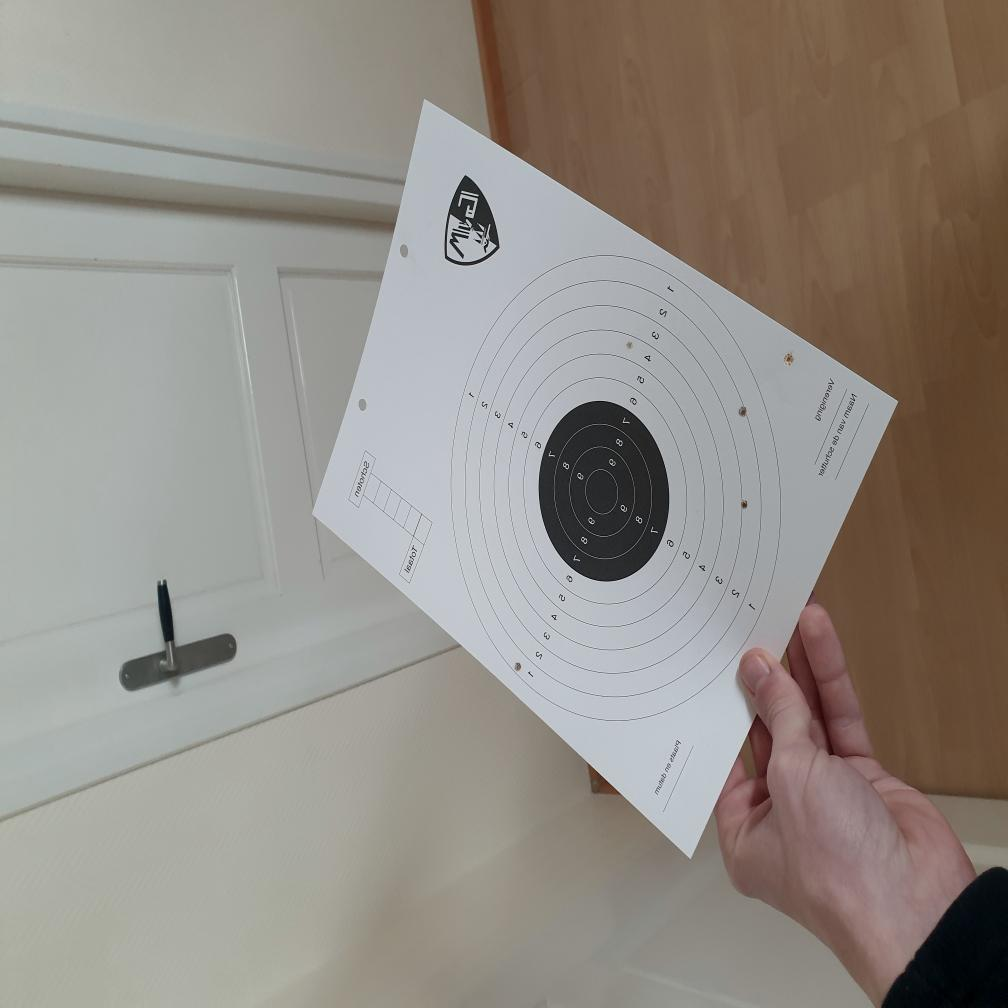0: (781, 350, 796, 368)
1: (513, 662, 522, 672)
2: (737, 405, 748, 419)
3: (740, 500, 748, 509)
4: (625, 340, 633, 352)
Target: (448, 256, 784, 723)
black_contour: (538, 400, 670, 582)
